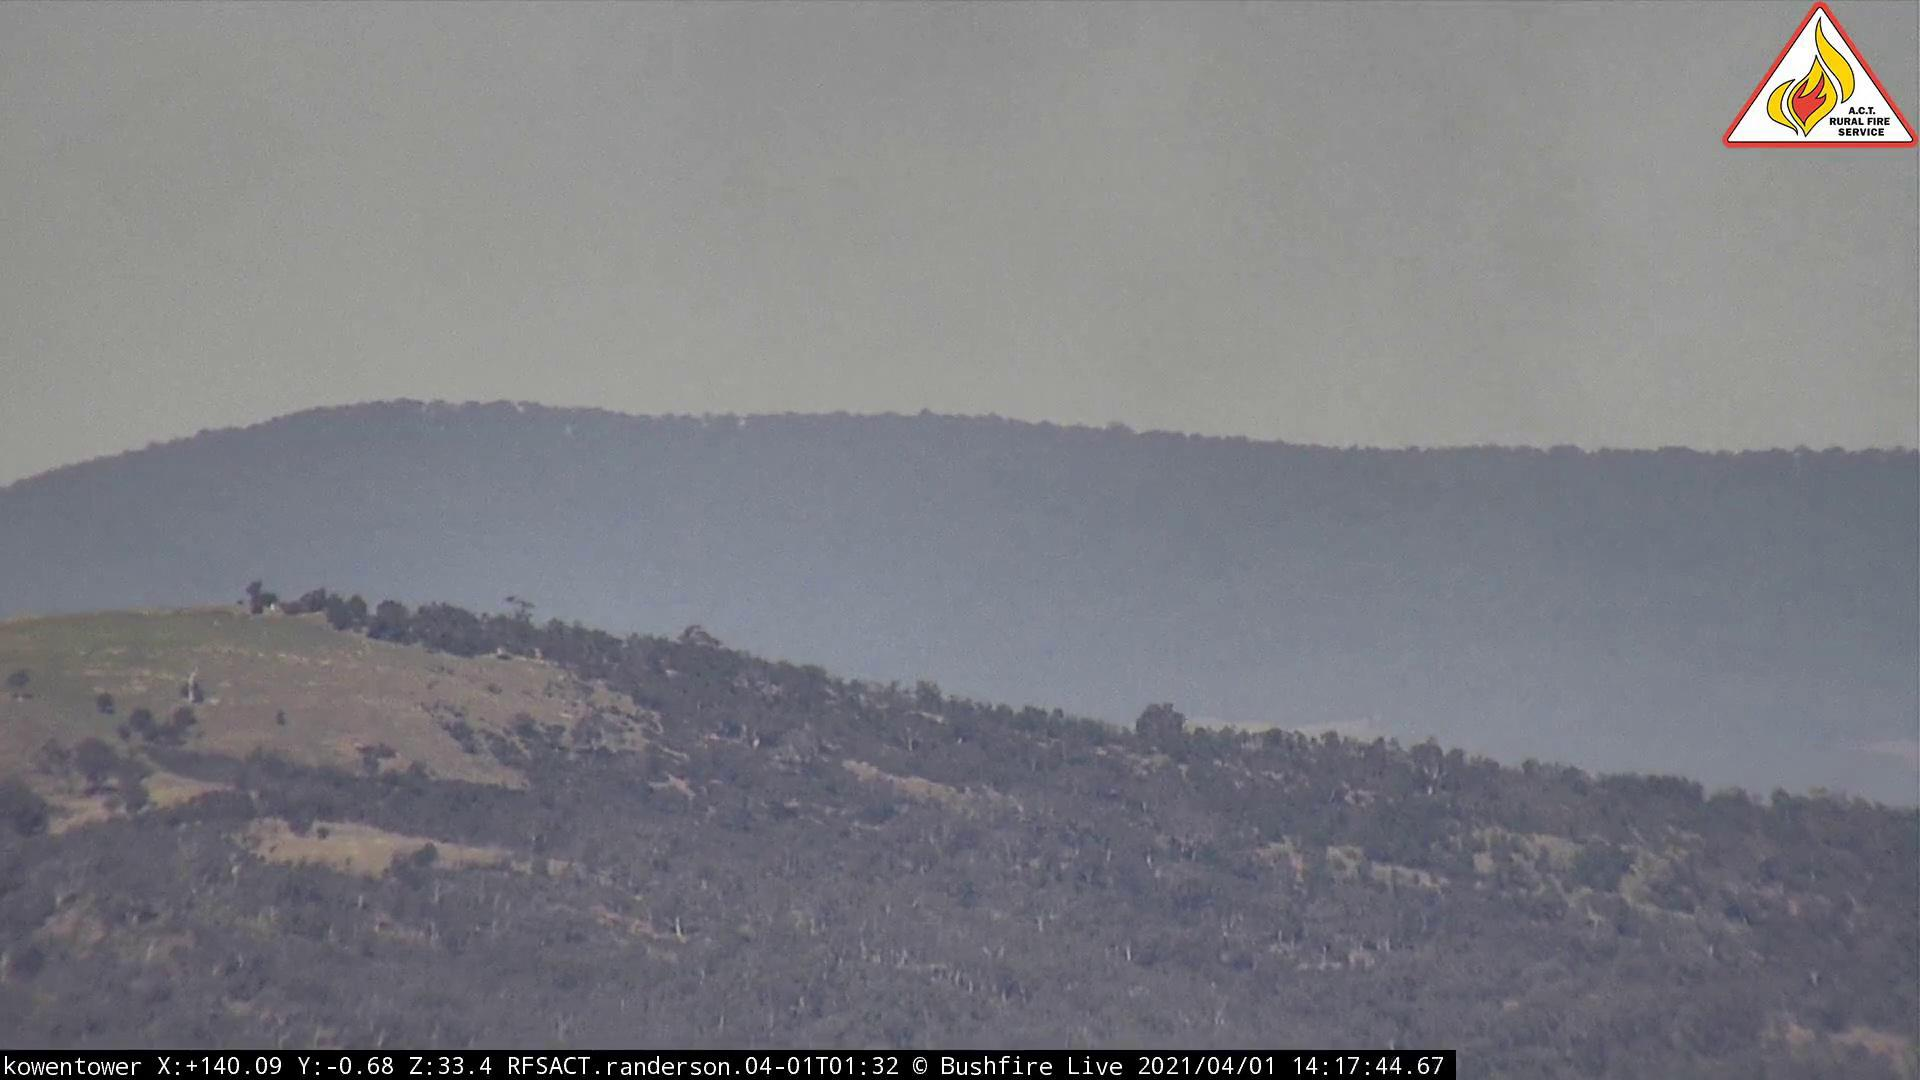instance_salient_object: (969, 3, 1710, 517)
